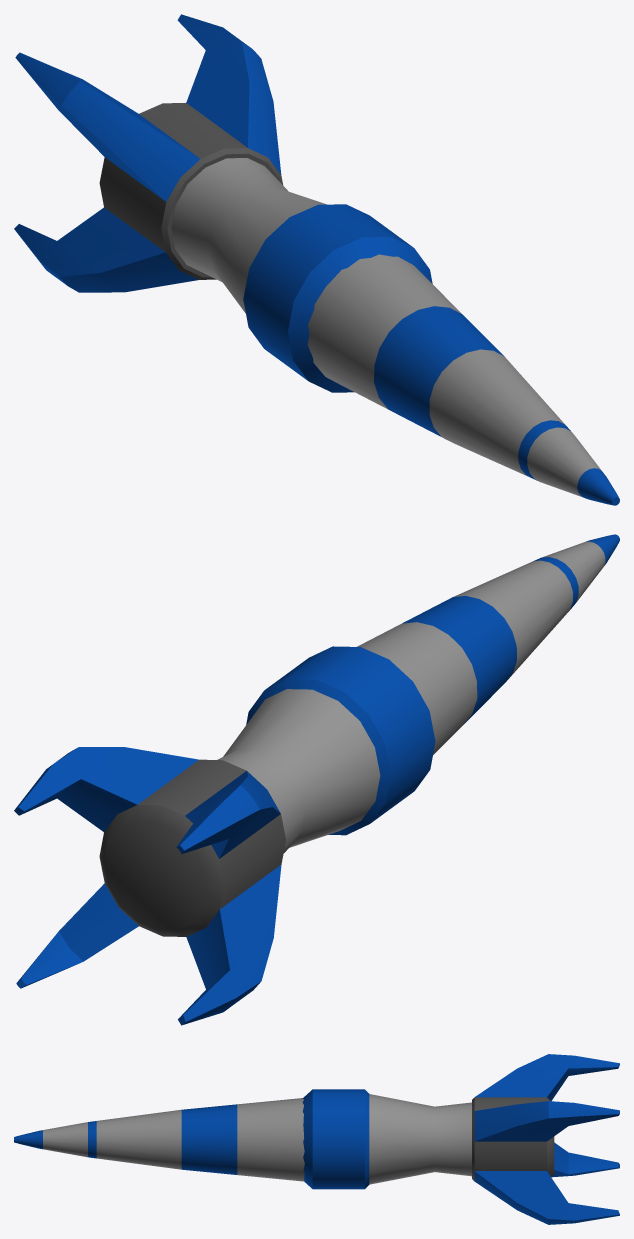
Rendered from Projectile.fbx.
The picture shows the model from 3 angles, top to bottom: view 1: azimuth 30°, elevation 25°; view 2: azimuth 150°, elevation 25°; view 3: azimuth 270°, elevation 25°; orthographic projection. The views are drawn at different scales.
Visible parts, largest first — view 1: Projectile; view 2: Projectile; view 3: Projectile.
Part boxes in pixels (x1=…): Projectile: x1=14, y1=14, x2=619, y2=505; Projectile: x1=14, y1=534, x2=619, y2=1025; Projectile: x1=14, y1=1054, x2=619, y2=1224.
Size of the model in its own units: 22.12 by 22.4 by 98.06.
